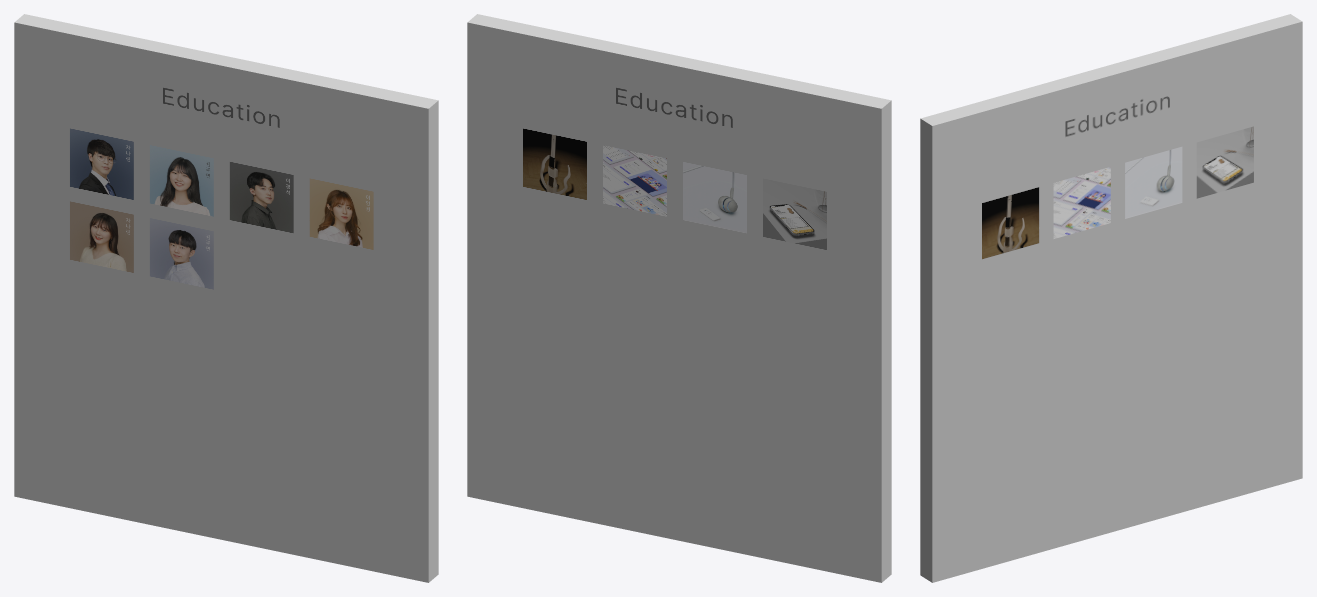
3 renders of one model, left to right at view 1: azimuth 30°, elevation 25°; view 2: azimuth 210°, elevation 25°; view 3: azimuth 270°, elevation 25°, orthographic. The views are drawn at different scales.
Visible parts, largest first — view 1: Cylinder.027; view 2: Cylinder.027; view 3: Cylinder.027.
Part boxes in pixels (bbox=[...]): Cylinder.027: bbox=[14, 14, 438, 582]; Cylinder.027: bbox=[467, 14, 891, 582]; Cylinder.027: bbox=[920, 14, 1302, 582].
Size of the model in its own units: 3.69 by 7 by 5.31.
Materials: 3 (2 with a texture image).
